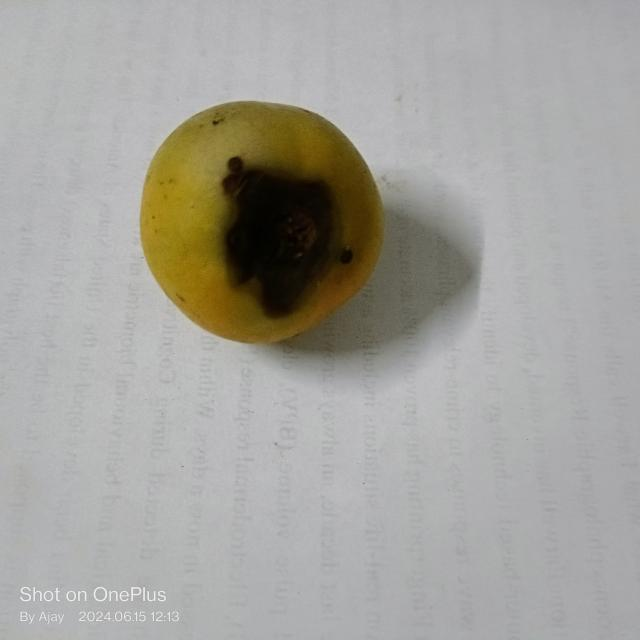Anthrocnose: (217, 157, 343, 317)
